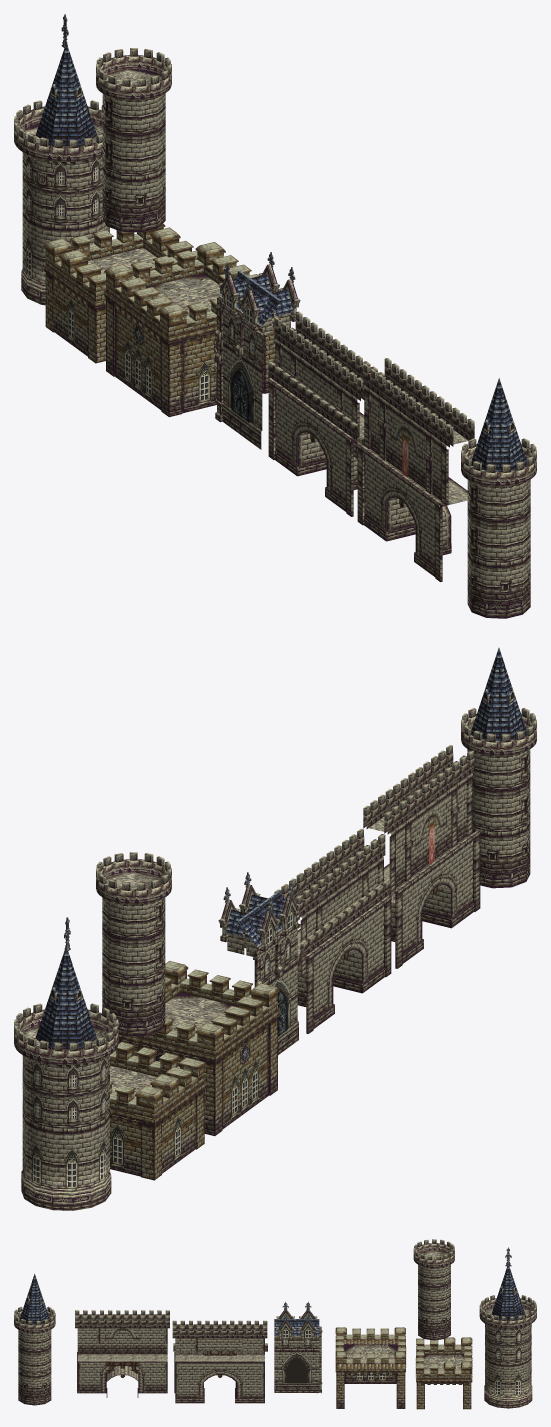
The model's file is ObjMD_Plain_Castle_Gate_A_small.FBX.
3 renders of one model, top to bottom at view 1: azimuth 30°, elevation 25°; view 2: azimuth 150°, elevation 25°; view 3: azimuth 270°, elevation 25°, orthographic. The views are drawn at different scales.
Visible parts, largest first — view 1: ObjMD_Plain_Castle_A_back_main, ObjMD_Plain_Castle_Gate_A_tall, ObjMD_Plain_Castle_Room_A, ObjMD_Plain_Castle_Gate_A_small, ObjMD_Plain_Castle_Tower_A_tall, ObjMD_Plain_Castle_Tower_A_small, ObjMD_Plain_Castle_A_back_l, ObjMD_Plain_Castle_A_entrance; view 2: ObjMD_Plain_Castle_Room_A, ObjMD_Plain_Castle_Gate_A_tall, ObjMD_Plain_Castle_Gate_A_small, ObjMD_Plain_Castle_A_back_main, ObjMD_Plain_Castle_Tower_A_tall, ObjMD_Plain_Castle_Tower_A_small, ObjMD_Plain_Castle_A_back_l, ObjMD_Plain_Castle_A_entrance; view 3: ObjMD_Plain_Castle_Gate_A_tall, ObjMD_Plain_Castle_Gate_A_small, ObjMD_Plain_Castle_Room_A, ObjMD_Plain_Castle_A_back_main, ObjMD_Plain_Castle_Tower_A_tall, ObjMD_Plain_Castle_A_entrance, ObjMD_Plain_Castle_Tower_A_small, ObjMD_Plain_Castle_A_back_l.
Boxes of the visible parts, bbox=[...] form: ObjMD_Plain_Castle_A_back_main: bbox=[104, 242, 279, 417]; ObjMD_Plain_Castle_Gate_A_tall: bbox=[356, 358, 474, 582]; ObjMD_Plain_Castle_Room_A: bbox=[14, 14, 109, 305]; ObjMD_Plain_Castle_Gate_A_small: bbox=[267, 311, 384, 516]; ObjMD_Plain_Castle_Tower_A_tall: bbox=[461, 378, 536, 618]; ObjMD_Plain_Castle_Tower_A_small: bbox=[96, 48, 171, 232]; ObjMD_Plain_Castle_A_back_l: bbox=[43, 223, 197, 363]; ObjMD_Plain_Castle_A_entrance: bbox=[215, 252, 300, 449]; ObjMD_Plain_Castle_Room_A: bbox=[14, 917, 118, 1210]; ObjMD_Plain_Castle_Gate_A_tall: bbox=[363, 745, 480, 968]; ObjMD_Plain_Castle_Gate_A_small: bbox=[274, 829, 391, 1033]; ObjMD_Plain_Castle_A_back_main: bbox=[115, 961, 279, 1136]; ObjMD_Plain_Castle_Tower_A_tall: bbox=[461, 648, 536, 888]; ObjMD_Plain_Castle_Tower_A_small: bbox=[96, 852, 171, 1036]; ObjMD_Plain_Castle_A_back_l: bbox=[110, 1042, 206, 1180]; ObjMD_Plain_Castle_A_entrance: bbox=[218, 872, 300, 1054]; ObjMD_Plain_Castle_Gate_A_tall: bbox=[75, 1310, 169, 1397]; ObjMD_Plain_Castle_Gate_A_small: bbox=[172, 1320, 267, 1403]; ObjMD_Plain_Castle_Room_A: bbox=[479, 1247, 536, 1408]; ObjMD_Plain_Castle_A_back_main: bbox=[335, 1327, 406, 1408]; ObjMD_Plain_Castle_Tower_A_tall: bbox=[14, 1274, 55, 1405]; ObjMD_Plain_Castle_A_entrance: bbox=[274, 1301, 322, 1393]; ObjMD_Plain_Castle_Tower_A_small: bbox=[413, 1239, 454, 1340]; ObjMD_Plain_Castle_A_back_l: bbox=[415, 1337, 472, 1409].
Bounding box in the file's own units: 626 × 1475 × 4652.
